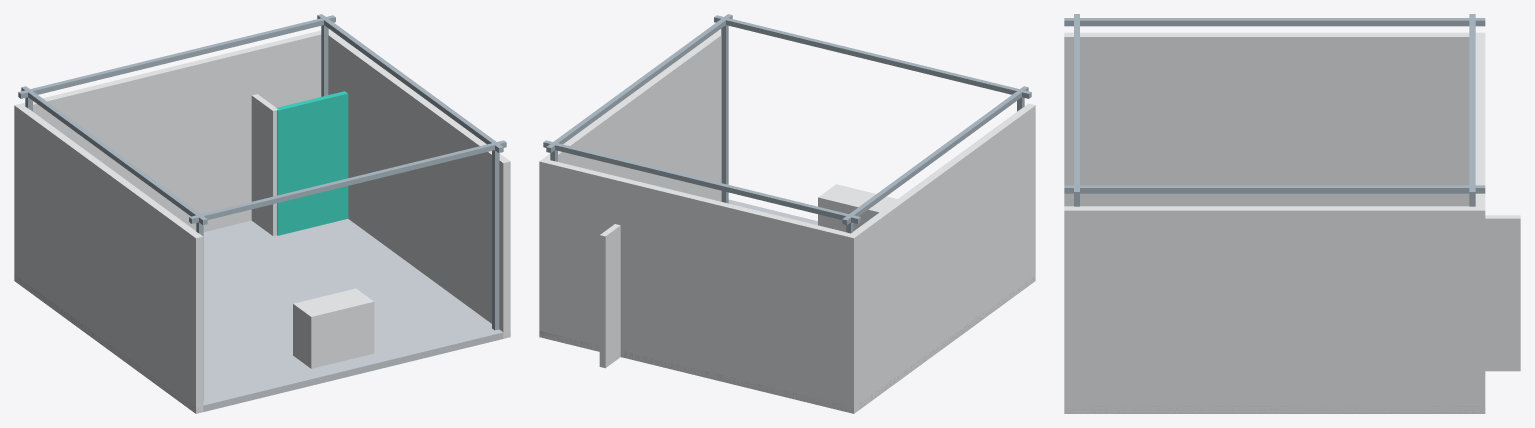
The picture shows the model from 3 angles, left to right: view 1: azimuth 30°, elevation 25°; view 2: azimuth 150°, elevation 25°; view 3: azimuth 270°, elevation 25°; orthographic projection. The views are drawn at different scales.
Visible parts, largest first — view 1: Exhibition Booth Concept; view 2: Exhibition Booth Concept; view 3: Exhibition Booth Concept.
Boxes of the visible parts, box(x1,y1,x2,y2) form: Exhibition Booth Concept: box(14, 14, 510, 413); Exhibition Booth Concept: box(539, 14, 1035, 413); Exhibition Booth Concept: box(1064, 14, 1520, 413).
Size of the model in its own units: 6 by 3.49 by 6.51.
